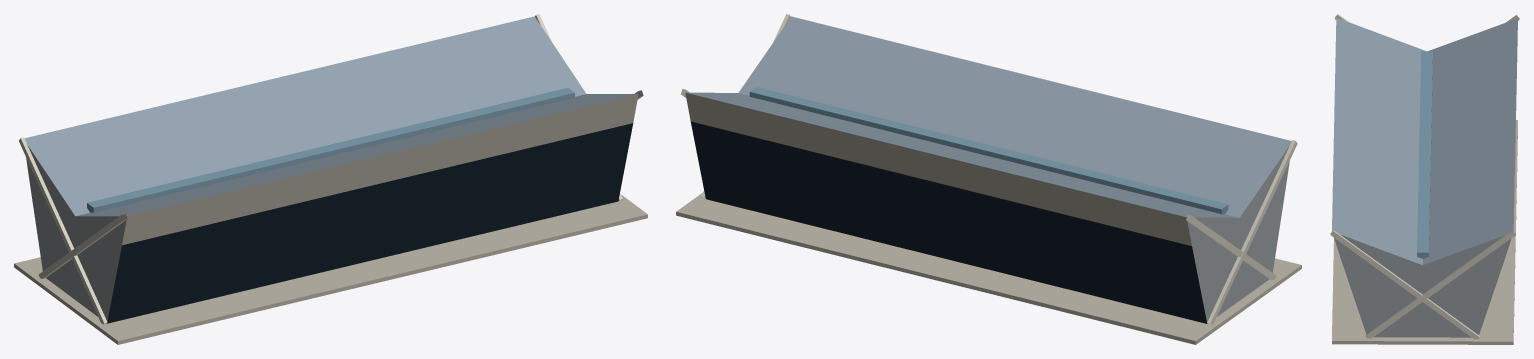
The model's file is perpustakaan-soeman-hs-lod2.glb.
3 views of the same model, side by side, from view 1: azimuth 30°, elevation 25°; view 2: azimuth 150°, elevation 25°; view 3: azimuth 270°, elevation 25° (orthographic). The views are drawn at different scales.
Visible parts, largest first — view 1: perpustakaan-soeman-hs_LOD2; view 2: perpustakaan-soeman-hs_LOD2; view 3: perpustakaan-soeman-hs_LOD2.
Part boxes in pixels (x1,y1,x2,y2): perpustakaan-soeman-hs_LOD2: (14, 14, 647, 344); perpustakaan-soeman-hs_LOD2: (676, 14, 1301, 344); perpustakaan-soeman-hs_LOD2: (1330, 14, 1519, 344).
Size of the model in its own units: 142 by 33.05 by 51.19.
